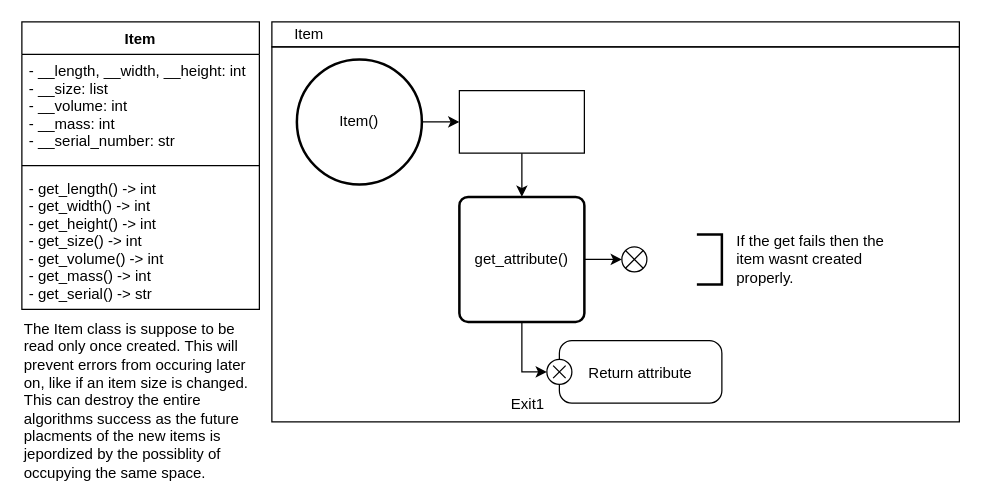
This 981x503 diagram has some shape labels left out. The shapes that lost their labels are listed below. From the top down, each one's centre as x and y in pixels, then its label:
At point 521,121: "Self".
At point 634,259: "aborted".
